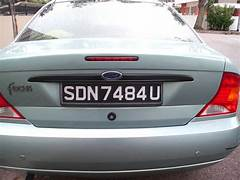number_plate: (61, 81, 163, 105)
